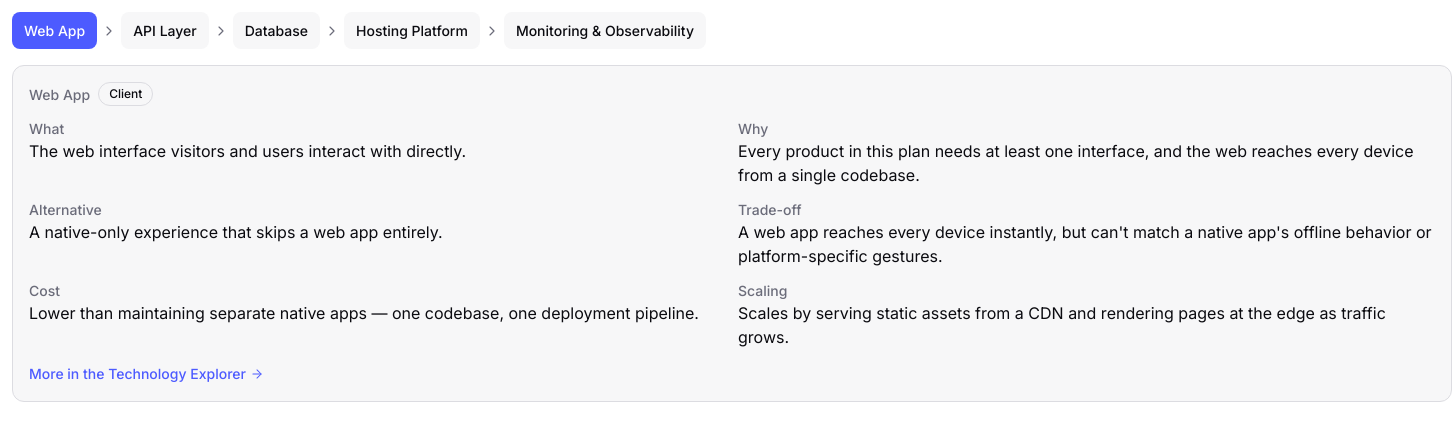
Test case: ArchitectureDiagram › switches the detail panel when a different node is selected
This screenshot has width=1452, height=443.
Click the button "Database" at (276, 30), box [233,12,320,49]
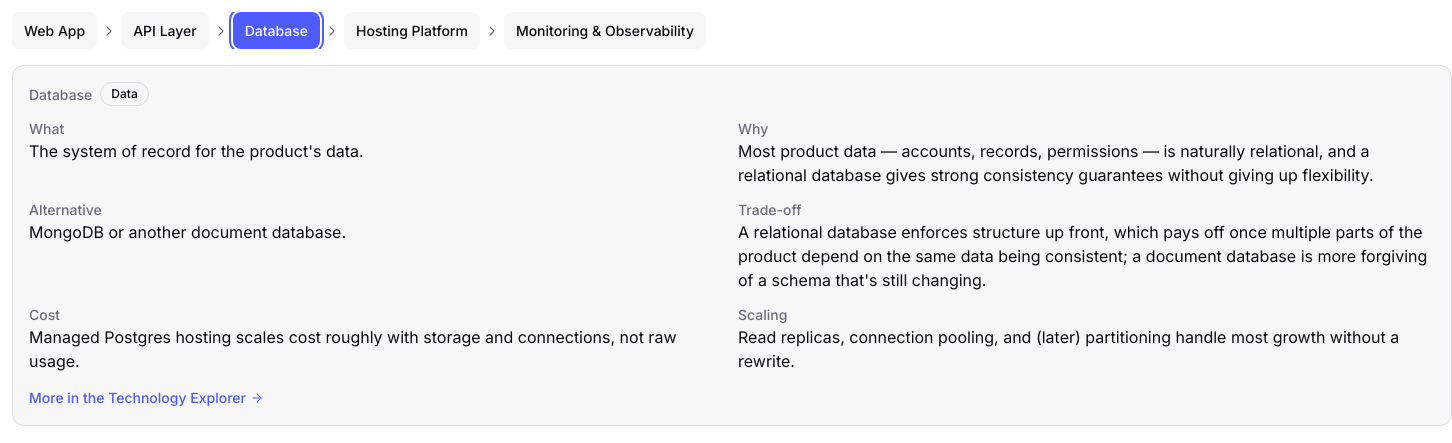
Now the text "Most product data — accounts, records, permissions" is shown, box [738,141,1374,185]
